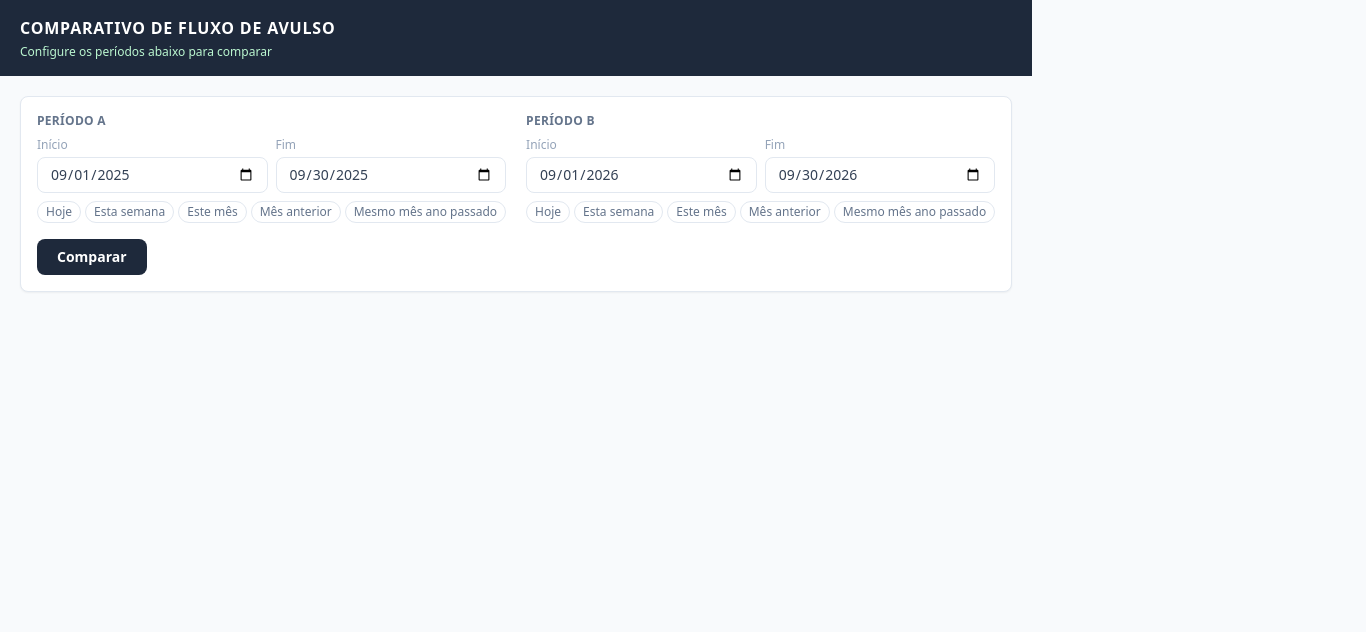
Test: Comparativo page › renderiza layout horário quando granularidade=HORA
What coordinates should you click on to do the following:
click the button "Comparar"
I would click on:
 (92, 257)
Its box is x1=37 y1=239 x2=146 y2=275.
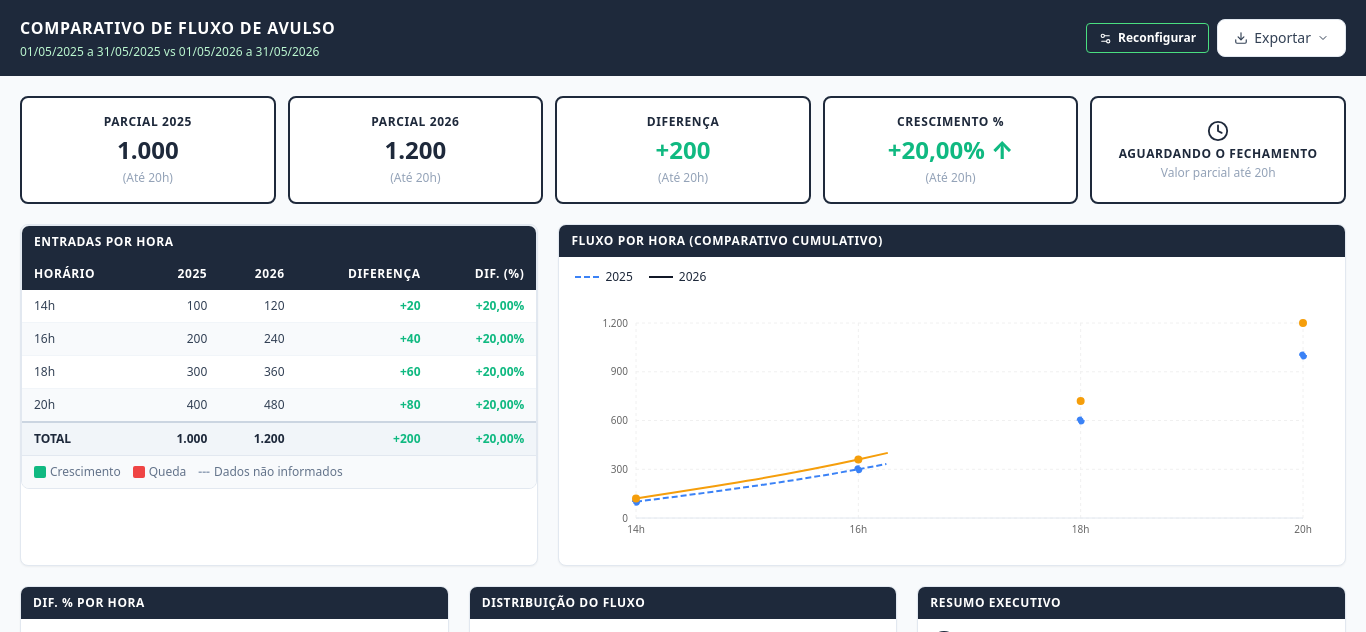
Expected: the text "FLUXO POR HORA (COMPARATIVO CUMULATIVO)" is shown, x1=559 y1=225 x2=1345 y2=257
